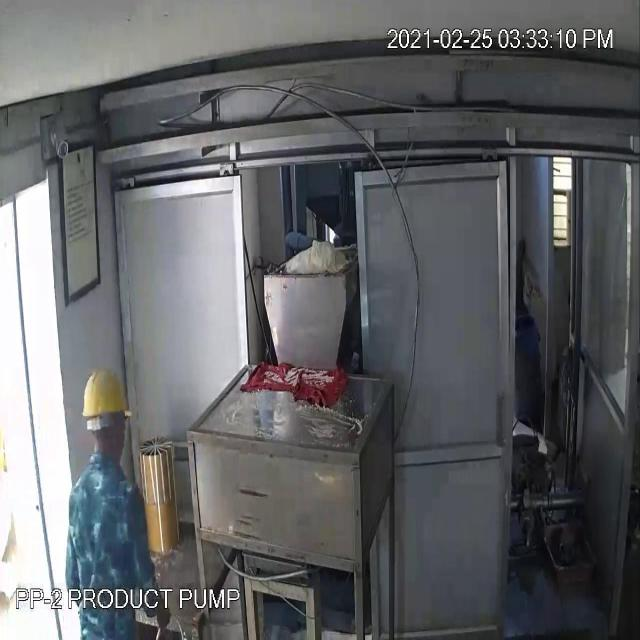helmet: (73, 357, 135, 431)
